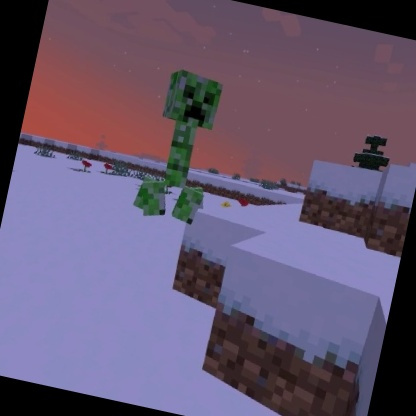creeper: (127, 62, 233, 231)
